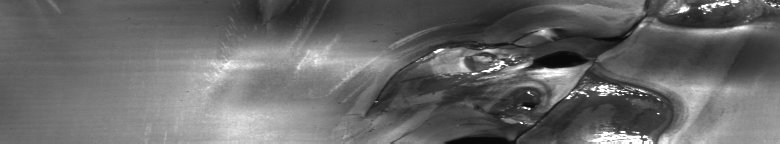ke: (365, 4, 776, 136)
